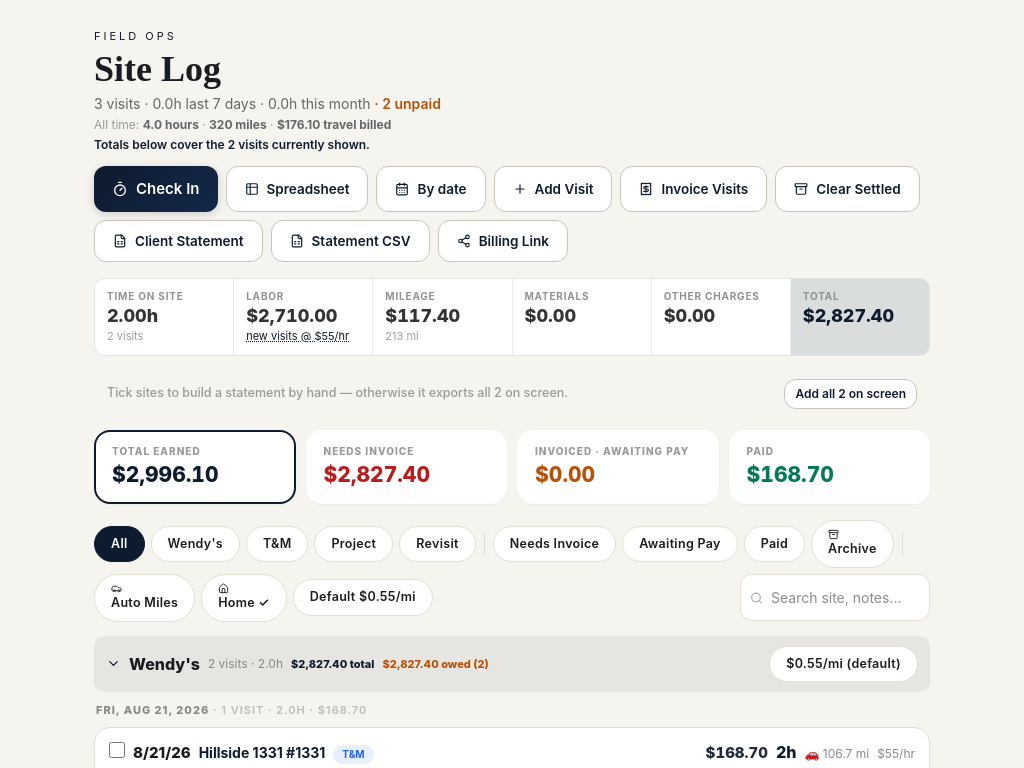
Test: Site Log visit editor › opens on the visit that was clicked
Click the text "8/21/26".
click(162, 753)  # box [133,742,191,764]
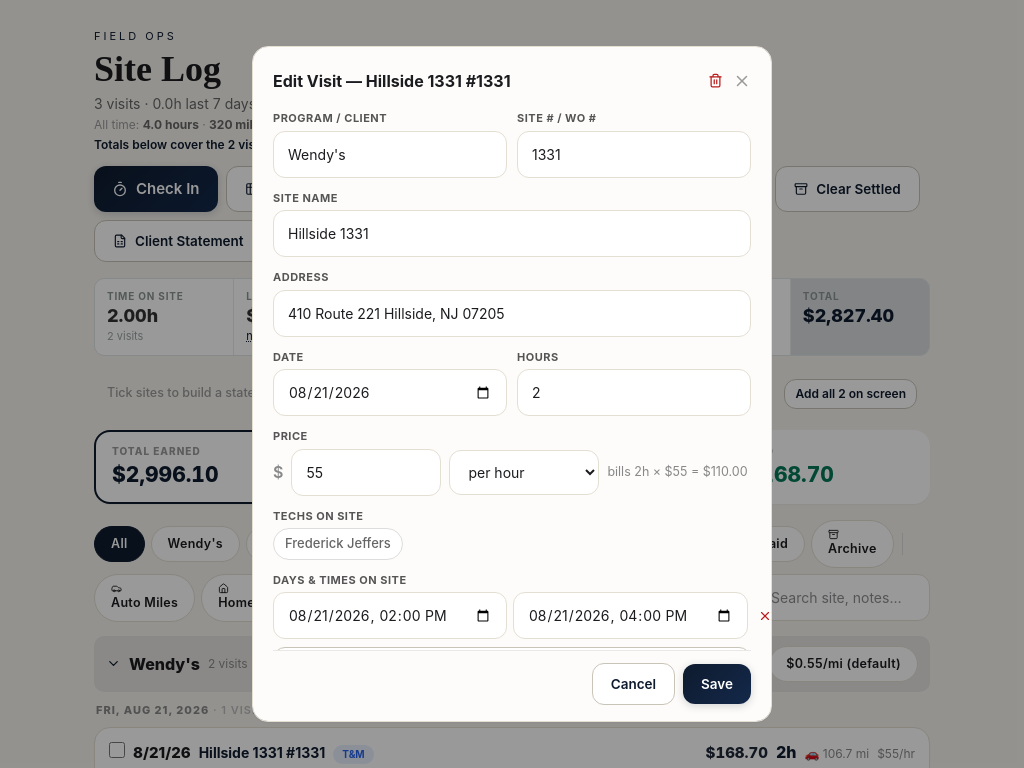
Check: the text "Edit Visit — Hillside 1331 #1331" is shown, box [273,69,510,93]
Check: the field showing "Hillside 1331" below "Site Name" holds "Hillside 1331", box [273,210,751,257]
